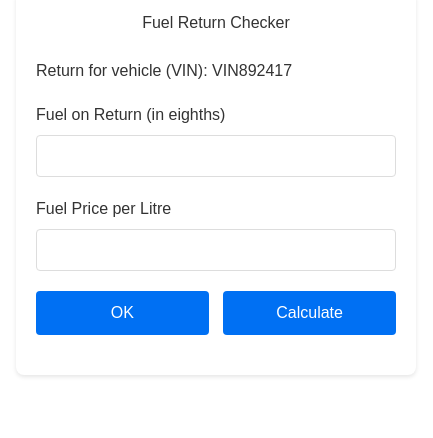
Test: CalculatePage › calculates the fuel cost
In the number field labelled "Fuel on Return (in eighths)": (216, 156) [36,135,396,177], type "3"
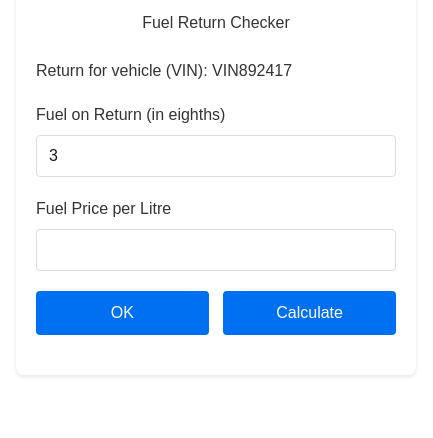
In the number field labelled "Fuel Price per Litre": (216, 250) [36,229,396,271], type "1.5"
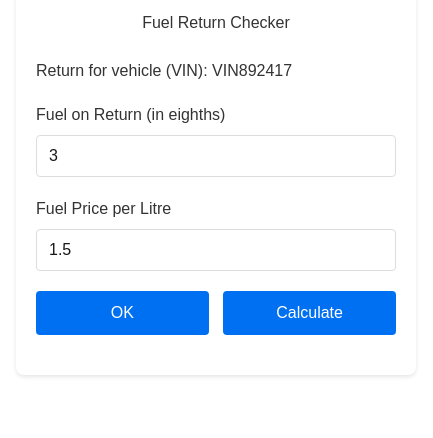
Click the button "Calculate": (310, 313) [223,291,396,335]
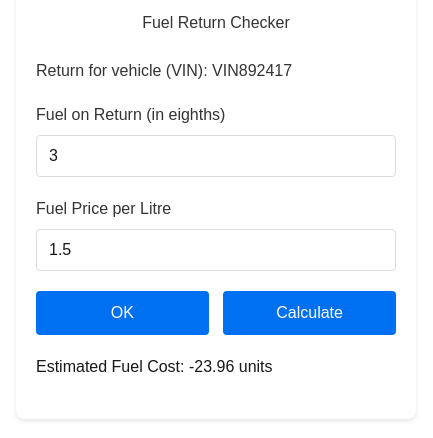
Expected: the text "Estimated Fuel Cost: -23.96 units" is shown, [36,358,273,375]
